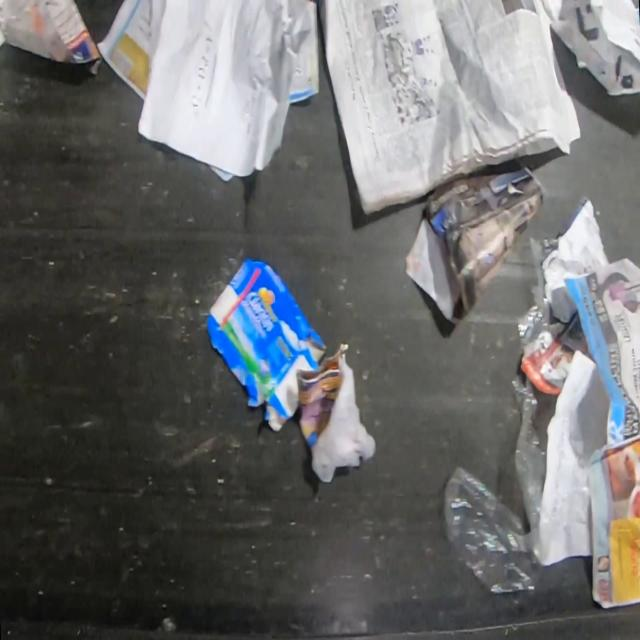cardboard: (207, 257, 326, 432)
soft_plastic: (442, 369, 559, 594), (514, 234, 559, 353)
